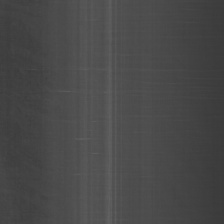waist_folding: (49, 17, 128, 206)
